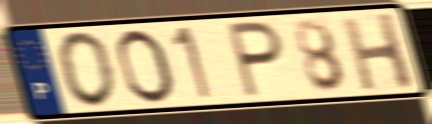1: (169, 24, 215, 102)
8: (293, 18, 347, 94)
H: (338, 10, 418, 93)
O: (114, 27, 179, 107), (55, 30, 119, 110)
P: (225, 19, 286, 101)
